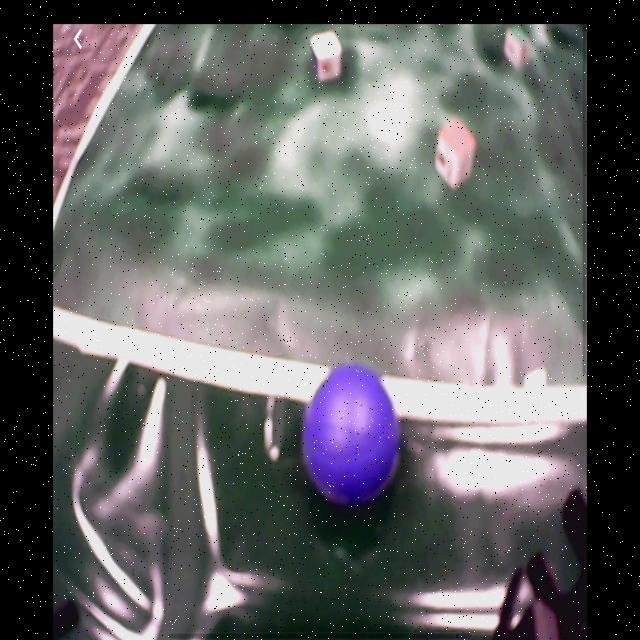ball: (307, 364, 401, 506)
